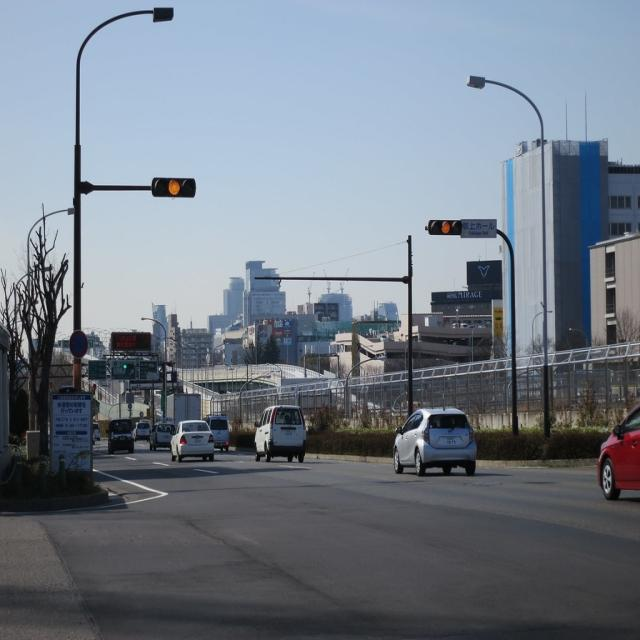yellow light: (153, 175, 195, 199), (428, 218, 463, 236)
